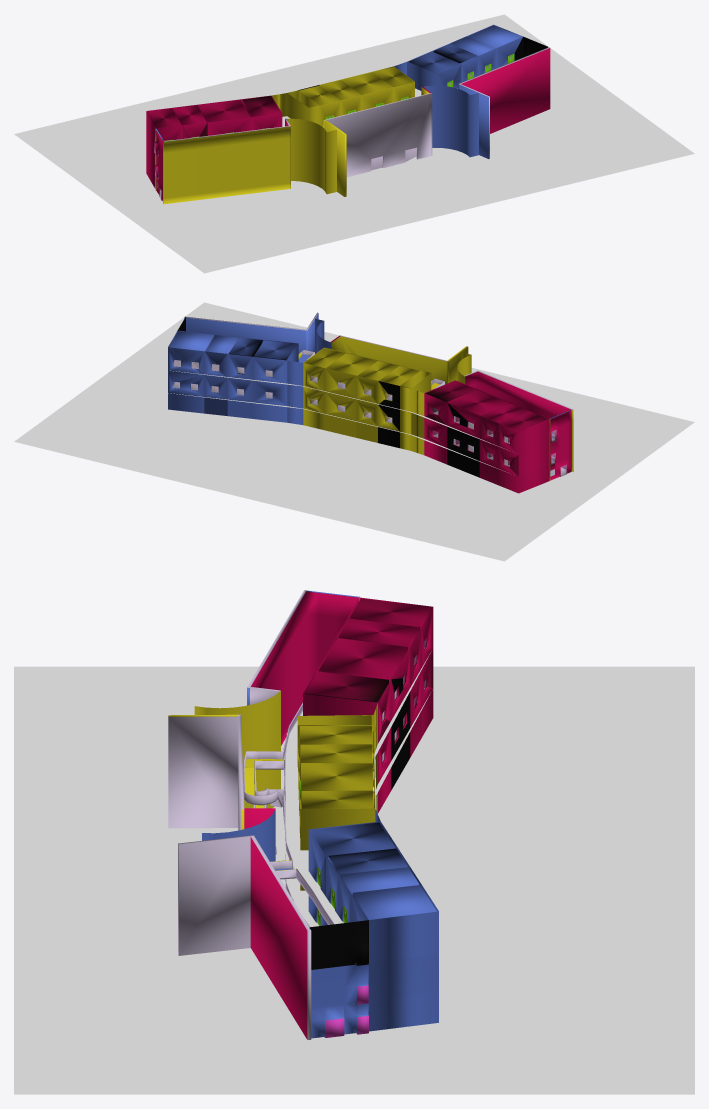
Rendered from TSR Block.fbx.
3 renders of one model, top to bottom at view 1: azimuth 30°, elevation 25°; view 2: azimuth 150°, elevation 25°; view 3: azimuth 270°, elevation 25°, orthographic. The views are drawn at different scales.
Visible parts, largest first — view 1: GroundFloor, SouthWalls, Walls; view 2: GroundFloor, Walls, SouthWalls, FirstAndSecondFloorPlan_001, FirstAndSecondFloorPlan_000; view 3: GroundFloor, Walls, SouthWalls, FirstAndSecondFloorPlan_001, Stairs1, FirstAndSecondFloorPlan_000, Balconythirdfl.
Part boxes in pixels (x1,y1,x2,y2): GroundFloor: (14,14,694,273); SouthWalls: (154,47,550,204); Walls: (146,24,547,190); GroundFloor: (14,302,694,561); Walls: (168,317,549,493); SouthWalls: (184,312,573,480); FirstAndSecondFloorPlan_001: (170,360,554,449); FirstAndSecondFloorPlan_000: (168,382,554,473); GroundFloor: (14,666,694,1094); Walls: (297,597,438,1038); SouthWalls: (168,590,360,1039); FirstAndSecondFloorPlan_001: (284,648,439,952); Stairs1: (243,751,296,901); FirstAndSecondFloorPlan_000: (284,688,439,992); Balconythirdfl: (283,702,334,924).
Size of the model in its own units: 12.25 by 1.52 by 8.23.
